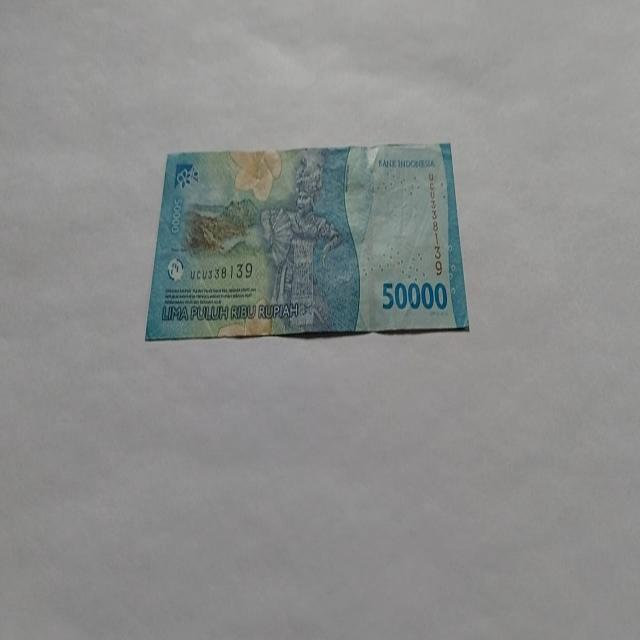lima puluh ribu rupiah: (143, 140, 470, 342)
